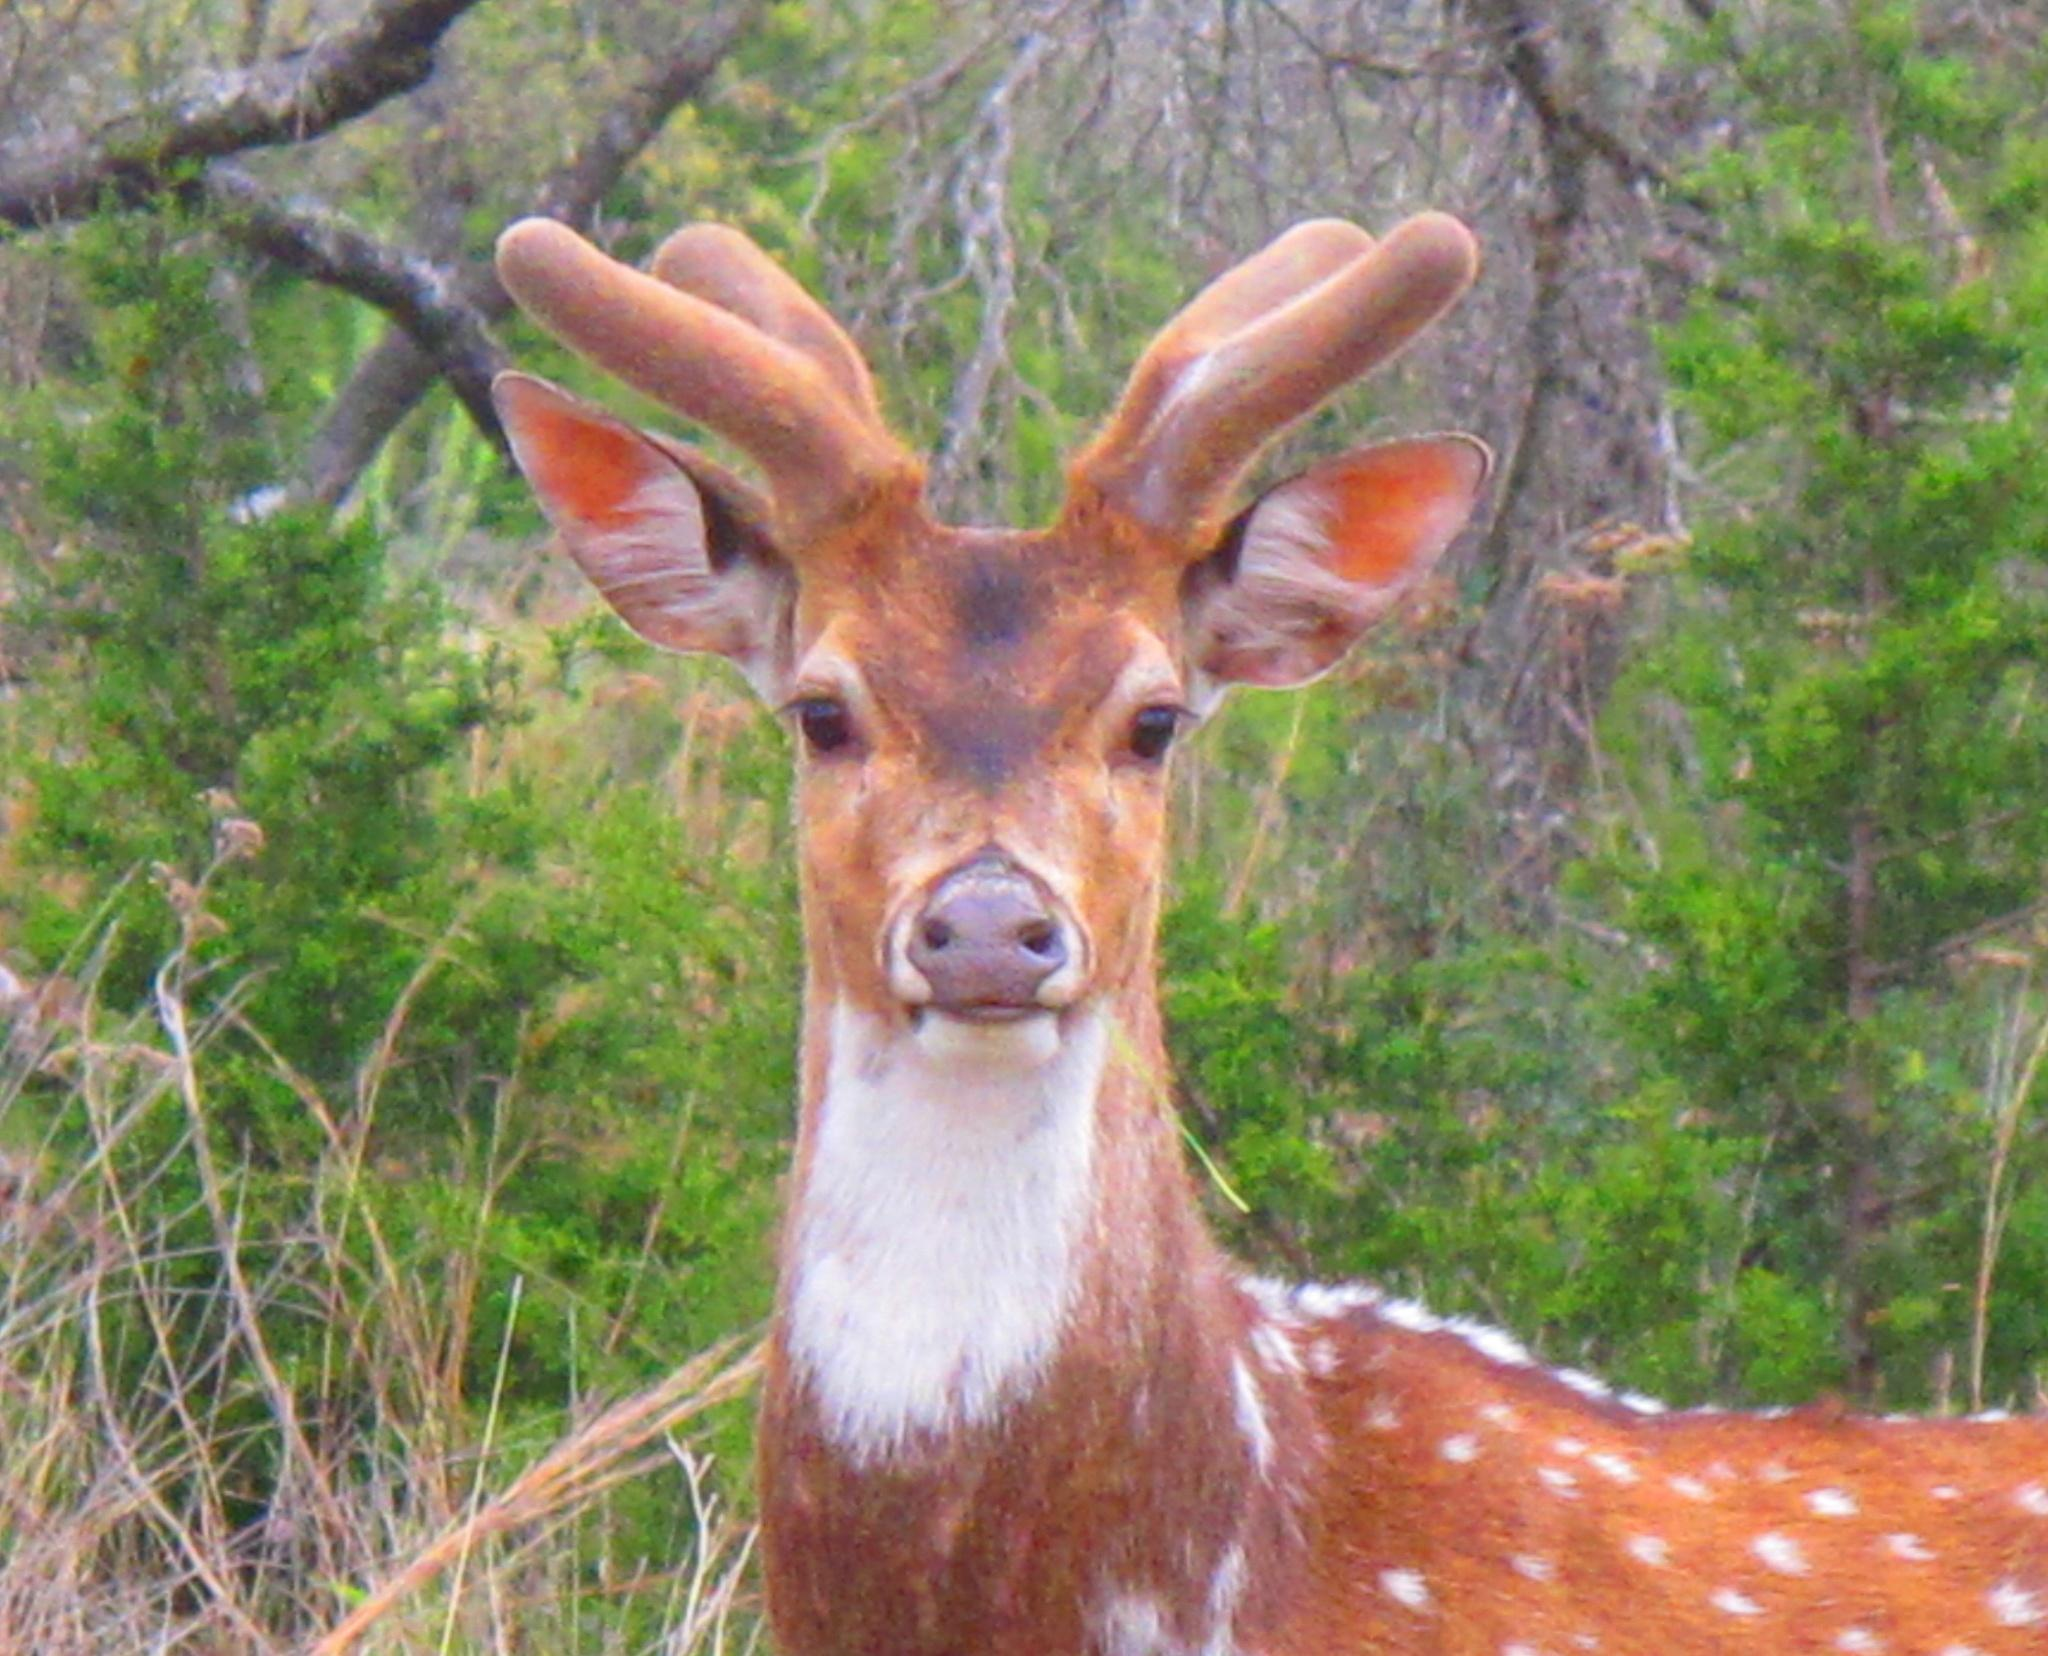Deer: (493, 211, 2046, 1654)
